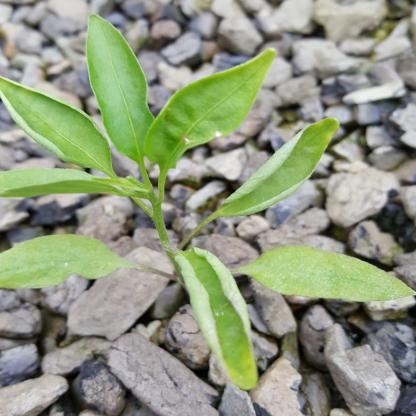Tomato leaf: (143, 41, 287, 169), (75, 15, 170, 178), (207, 114, 341, 222), (237, 242, 416, 309), (0, 232, 134, 287)
